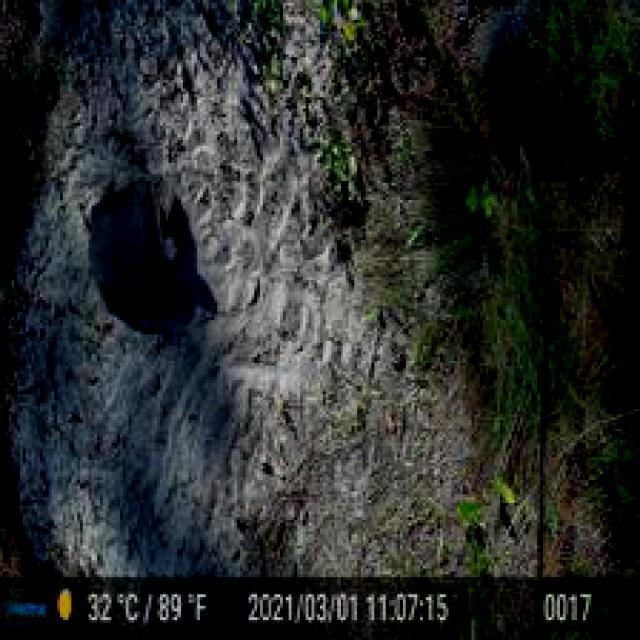tortoise: (86, 175, 178, 332)
